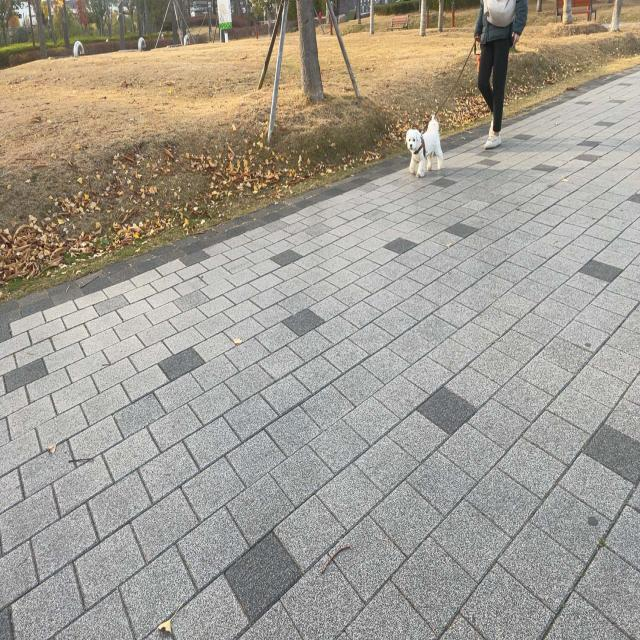Leashed_Dog: (406, 20, 492, 176)
